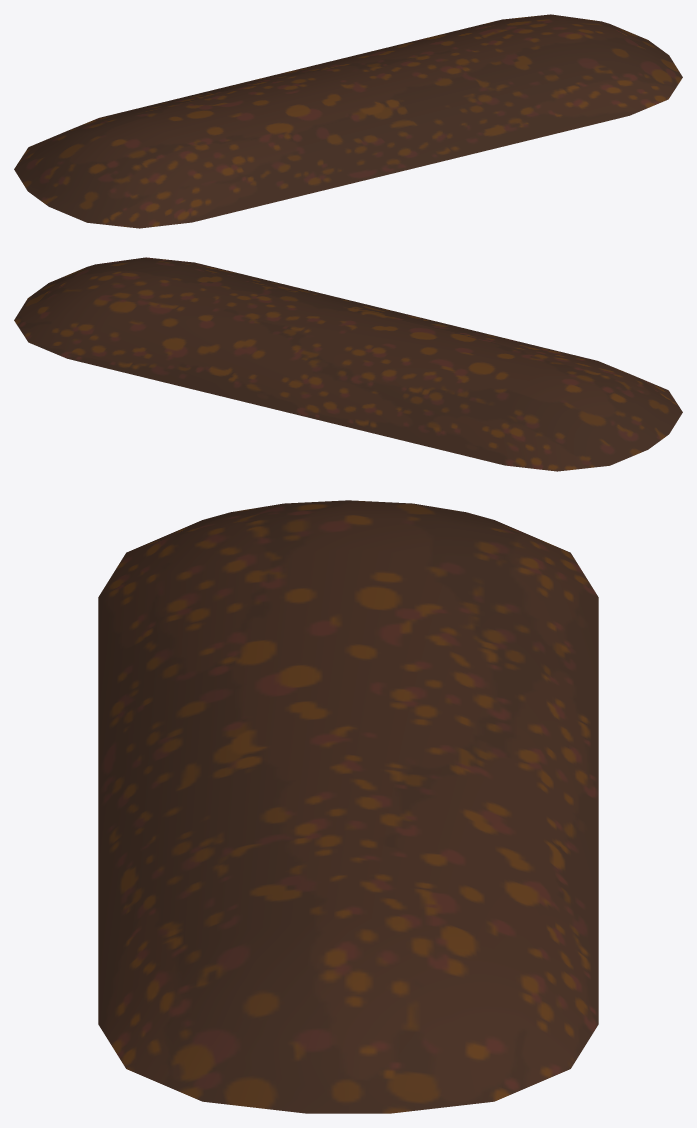
The model's file is DirtPile_01.FBX.
The picture shows the model from 3 angles, top to bottom: view 1: azimuth 30°, elevation 25°; view 2: azimuth 150°, elevation 25°; view 3: azimuth 270°, elevation 25°; orthographic projection. The views are drawn at different scales.
Visible parts, largest first — view 1: DirtPile_01; view 2: DirtPile_01; view 3: DirtPile_01.
Boxes of the visible parts, x1,y1,x2,y2 form: DirtPile_01: [14, 14, 682, 228]; DirtPile_01: [14, 257, 682, 471]; DirtPile_01: [98, 500, 598, 1113].
Bounding box in the file's own units: 6.95 × 0.4191 × 2.43.
